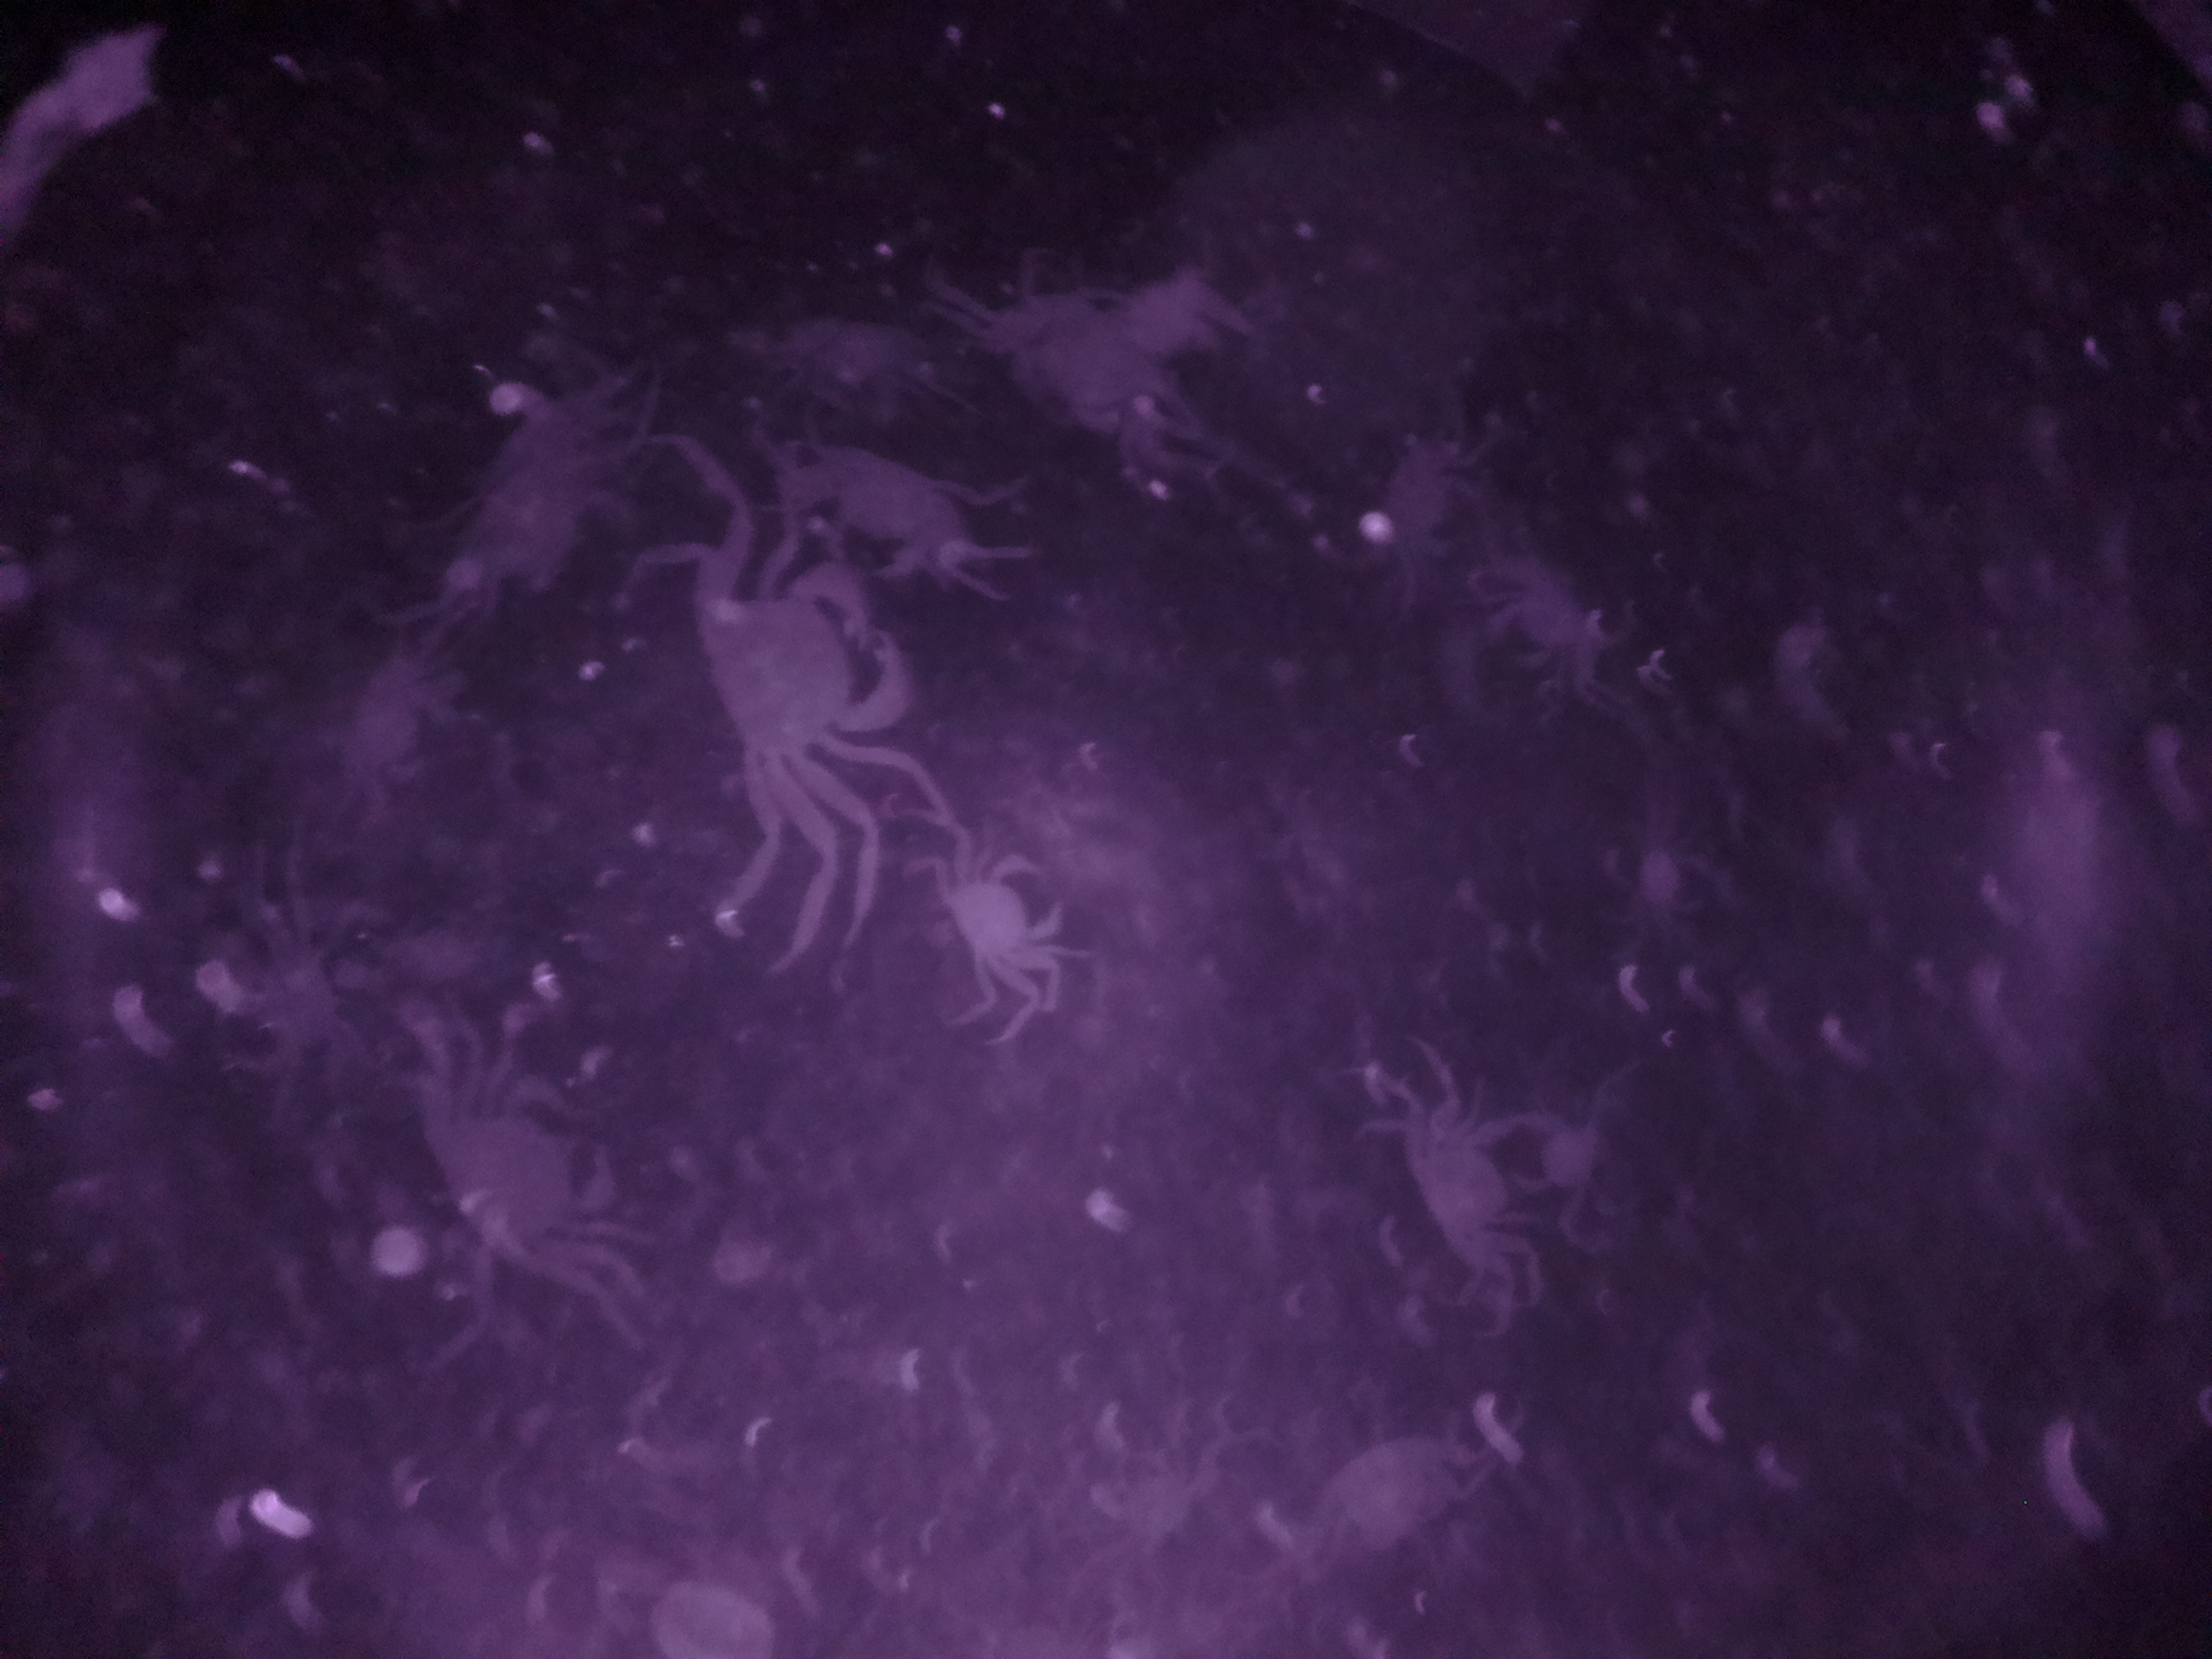Crab: (660, 525, 921, 849), (1392, 1080, 1531, 1290), (920, 838, 1075, 997)
